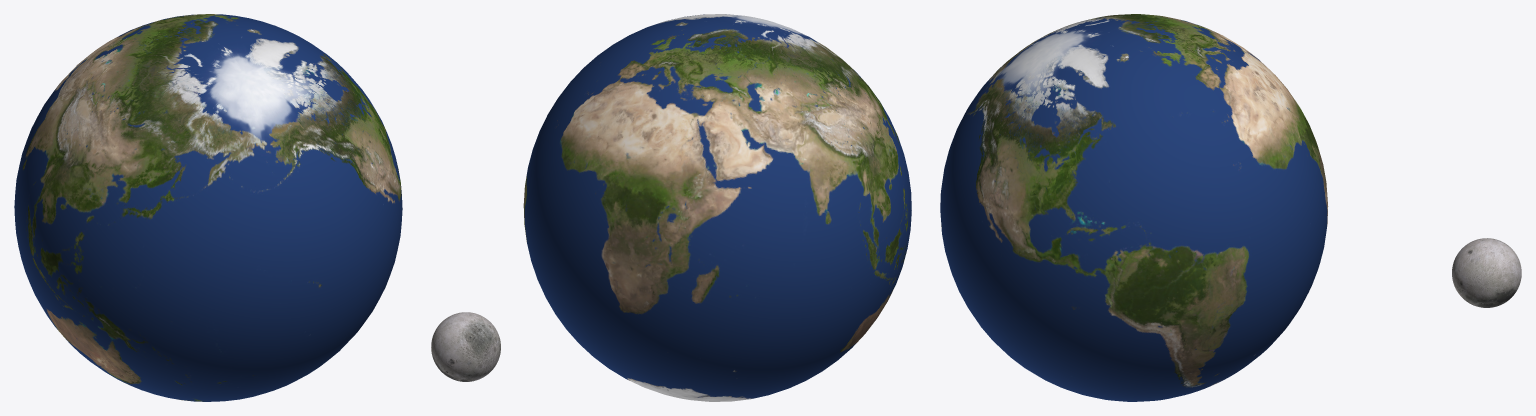
The model's file is Earth and Moon.glb.
3 views of the same model, side by side, from view 1: azimuth 30°, elevation 25°; view 2: azimuth 150°, elevation 25°; view 3: azimuth 270°, elevation 25° (orthographic).
Visible parts, largest first — view 1: erath; view 2: erath, moon; view 3: erath, moon.
Boxes of the visible parts, x1=… form: erath: x1=14, y1=14, x2=402, y2=401; erath: x1=523, y1=14, x2=911, y2=401; moon: x1=431, y1=312, x2=500, y2=381; erath: x1=940, y1=14, x2=1328, y2=401; moon: x1=1452, y1=238, x2=1521, y2=307.
Size of the model in its own units: 2 by 2 by 3.
Materials: 2 (2 with a texture image).
